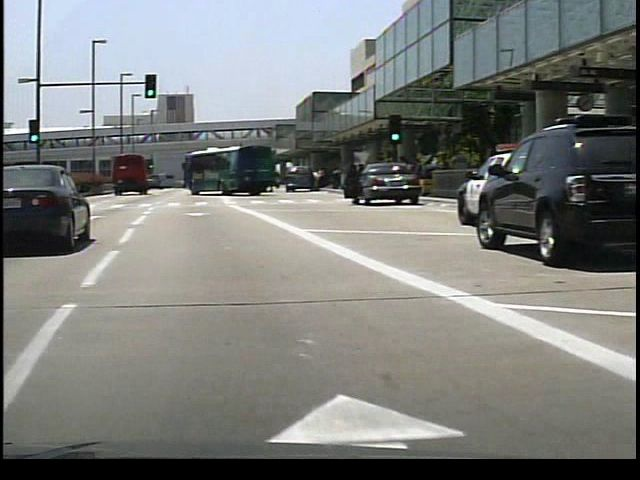person: (306, 167, 317, 191)
